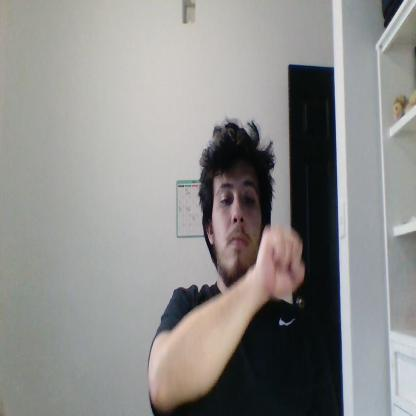S: (254, 224, 304, 298)
